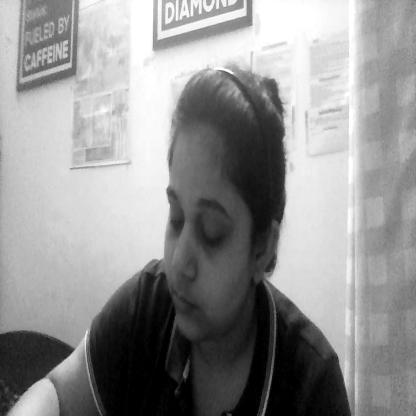Distracted: (160, 55, 289, 340)
